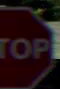Stop: (0, 3, 54, 85)
